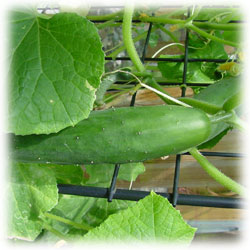cucumber: (6, 104, 210, 164)
